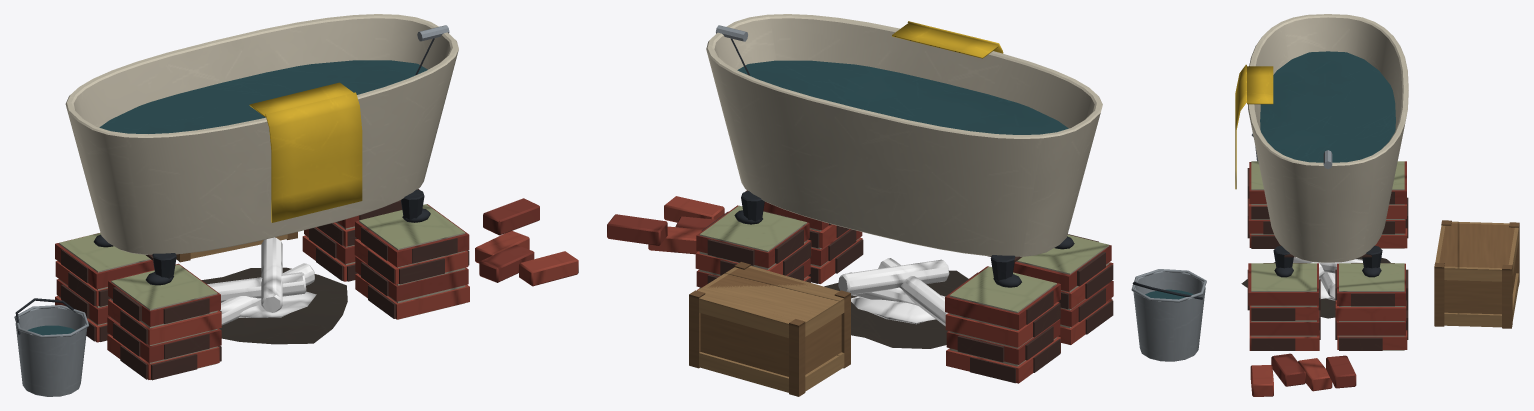
File: bathtub_outdoor.glb
3 renders of one model, left to right at view 1: azimuth 30°, elevation 25°; view 2: azimuth 150°, elevation 25°; view 3: azimuth 270°, elevation 25°, orthographic. The views are drawn at different scales.
Visible parts, largest first — view 1: bathtub_outdoor; view 2: bathtub_outdoor; view 3: bathtub_outdoor.
Boxes of the visible parts, x1,y1,x2,y2 form: bathtub_outdoor: [14, 14, 578, 396]; bathtub_outdoor: [607, 14, 1206, 396]; bathtub_outdoor: [1235, 14, 1519, 396].
Size of the model in its own units: 2.45 by 1.04 by 1.3.
Materials: 17 (17 with a texture image).
